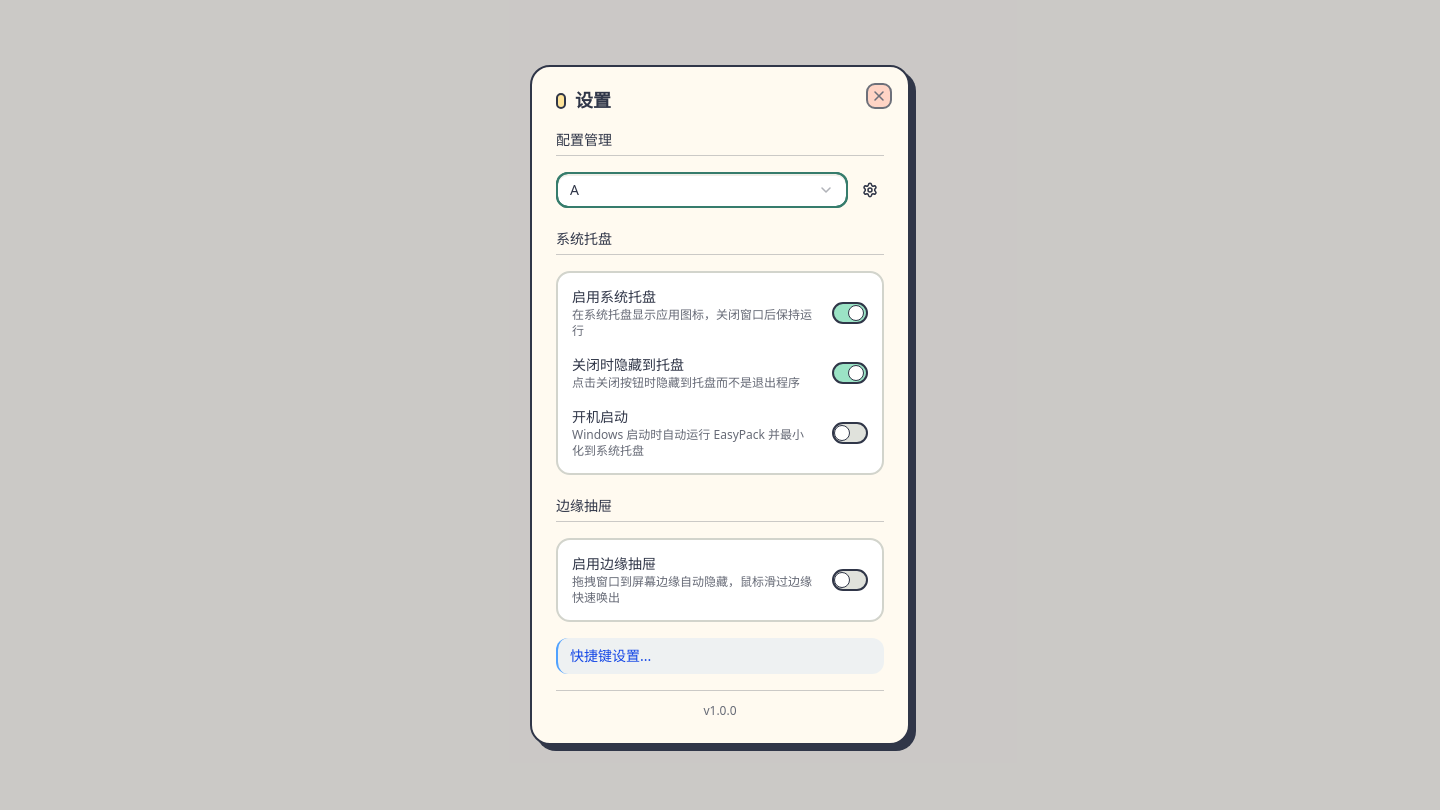
Test: SettingsDialog deletion confirmation › closes the confirmation only after deletion succeeds
The image size is (1440, 810).
Click the button named "管理配置".
click(870, 190)  # box x1=856 y1=176 x2=884 y2=204
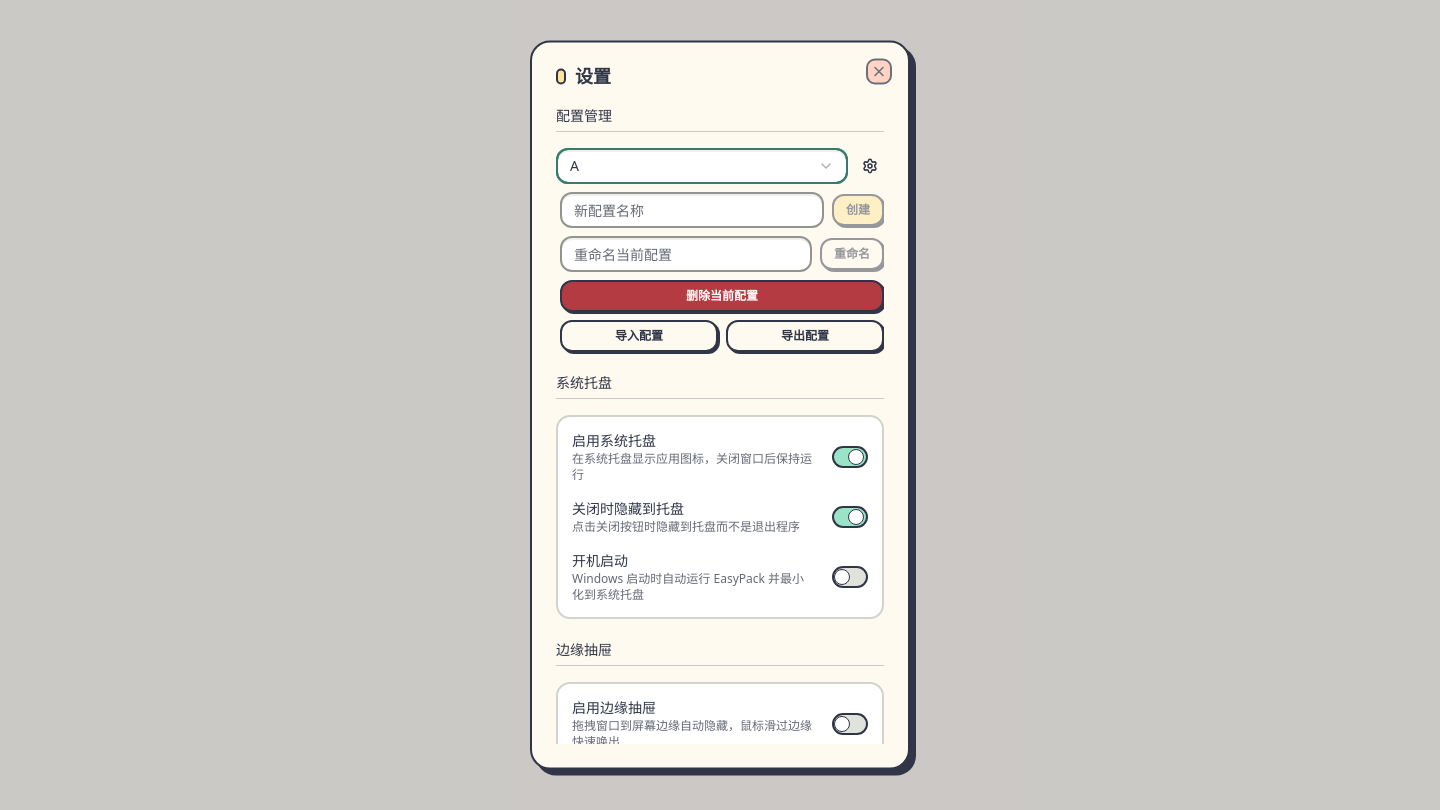
Click the button "删除当前配置".
click(722, 296)  # box x1=560 y1=280 x2=884 y2=312
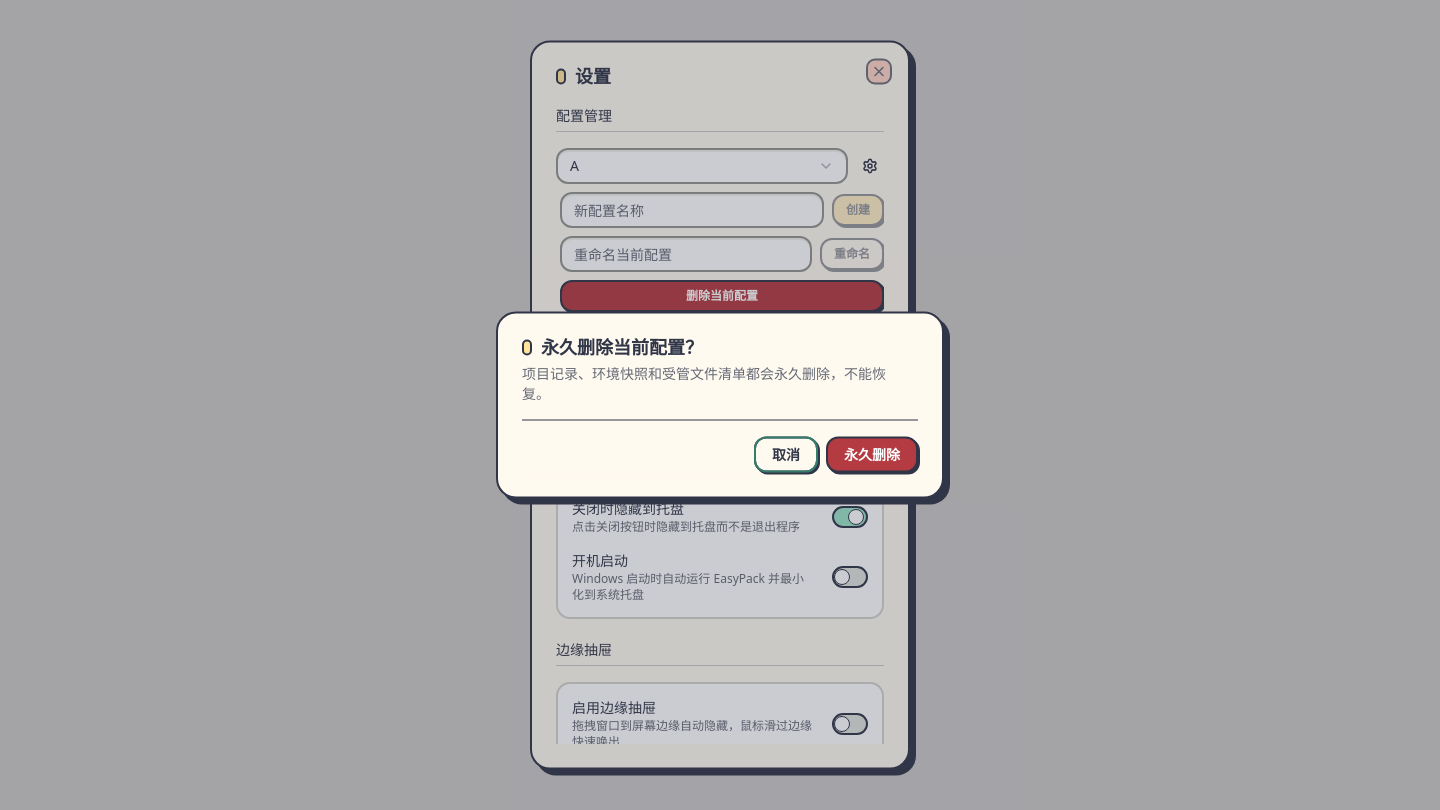
Result: the heading "永久删除当前配置？" is shown at x1=541 y1=334 x2=703 y2=358
Click the button "永久删除".
click(872, 454)  # box x1=826 y1=436 x2=918 y2=472
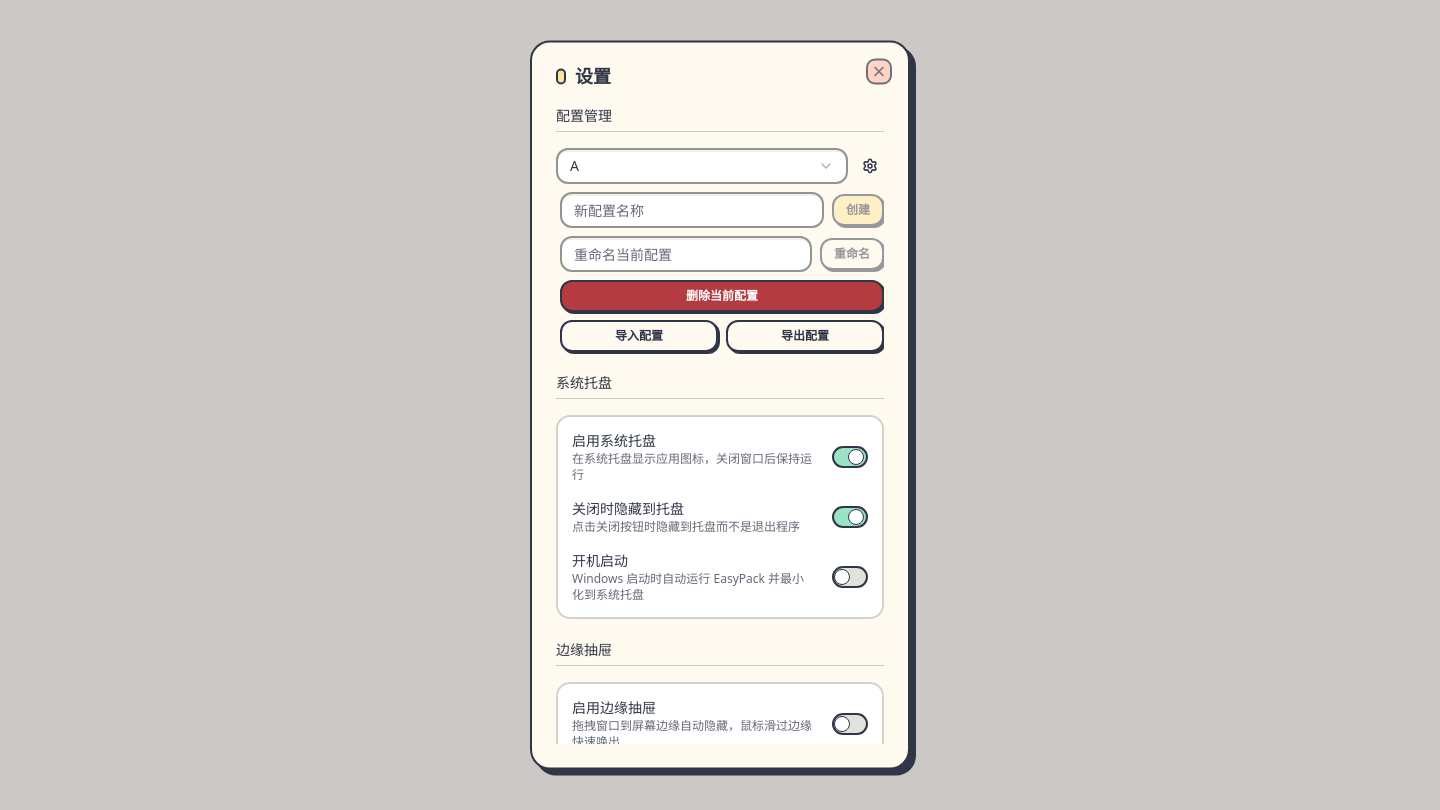
Result: the heading "永久删除当前配置？" is gone
